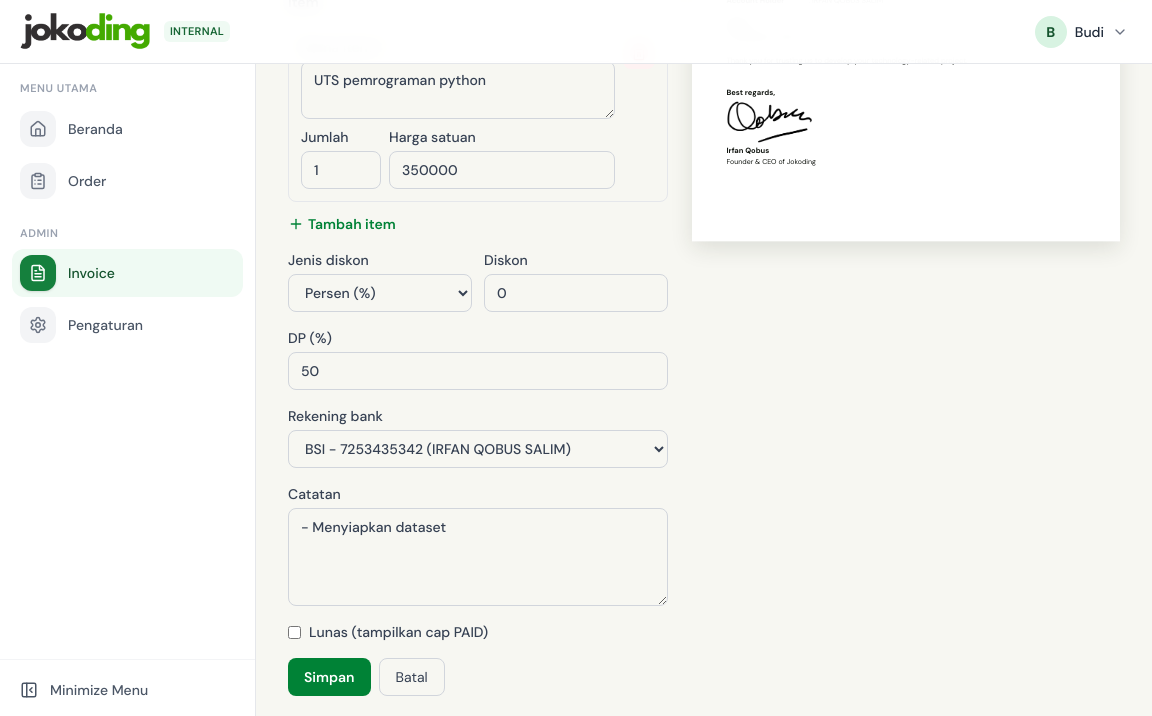
Test: InvoiceEditor (new) › POSTs with orderId and autoNumber, then opens the invoice
The width and height of the screenshot is (1152, 716).
(page scrolled)
Select "BCA - 111 (IRFAN)" in the dropdown labelled "Rekening bank" at [478, 449], box [288, 430, 668, 468]
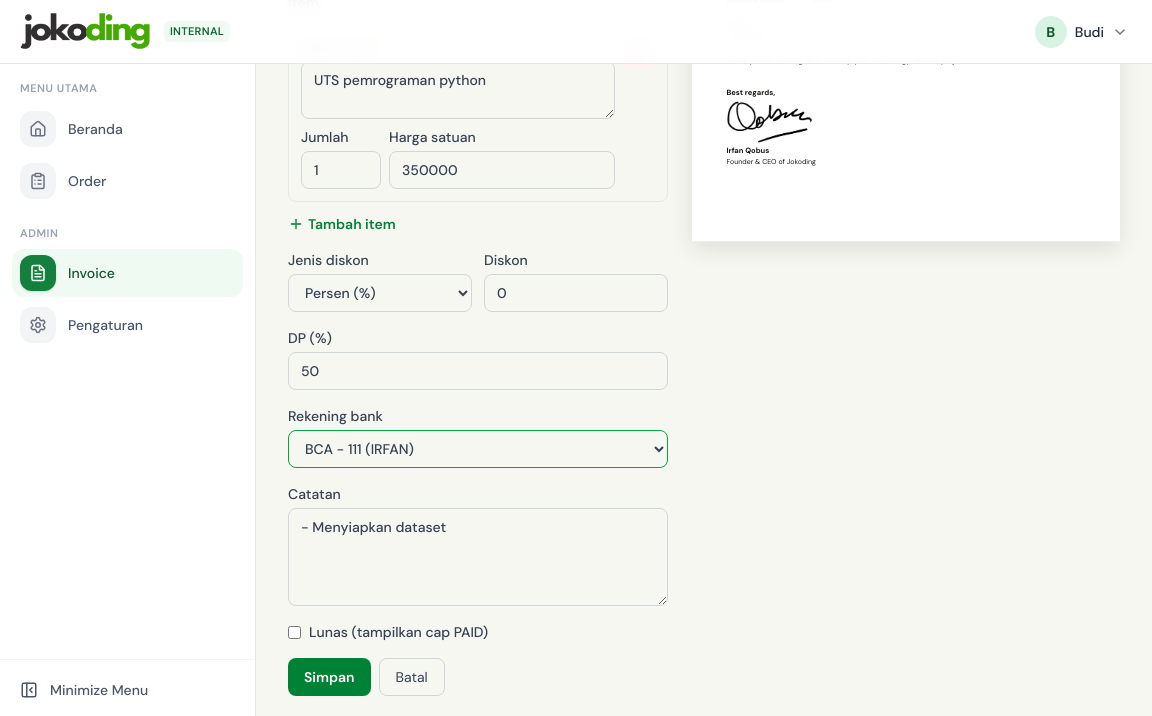
Click the button "Simpan" at [329, 677], box [288, 658, 371, 696]
(page scrolled)
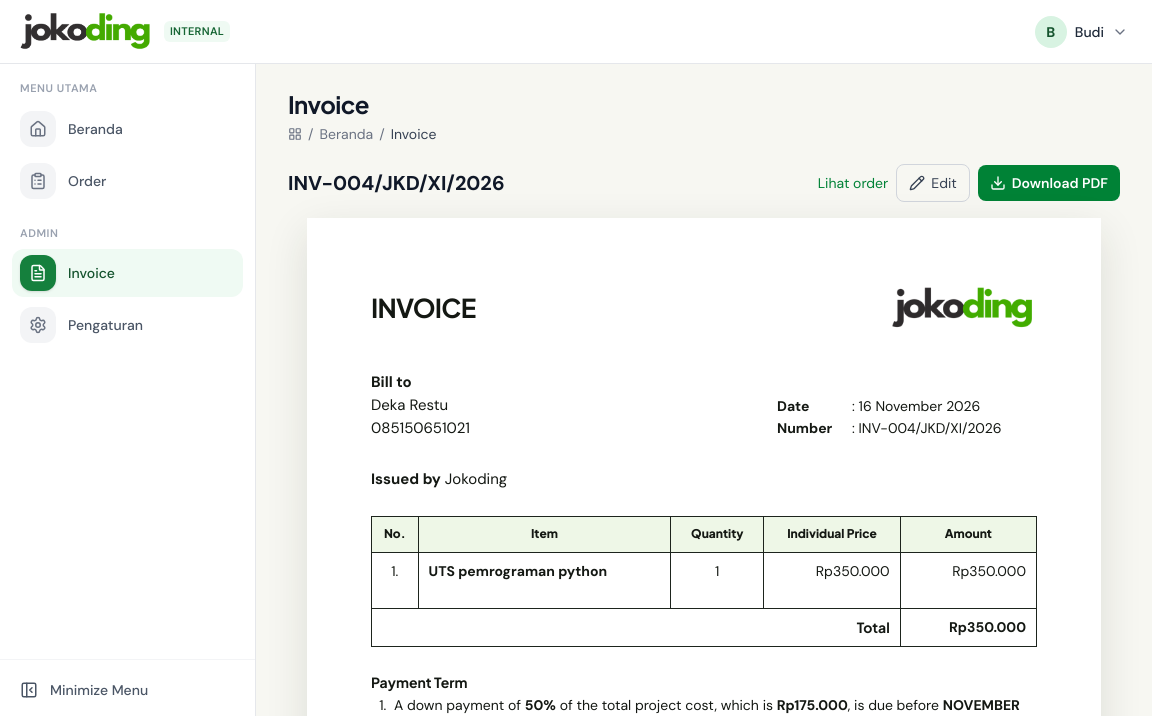
Result: the heading "INV-004/JKD/XI/2026" is shown at [288, 169, 505, 197]
Result: the button "Download PDF" is shown at [978, 165, 1120, 201]
